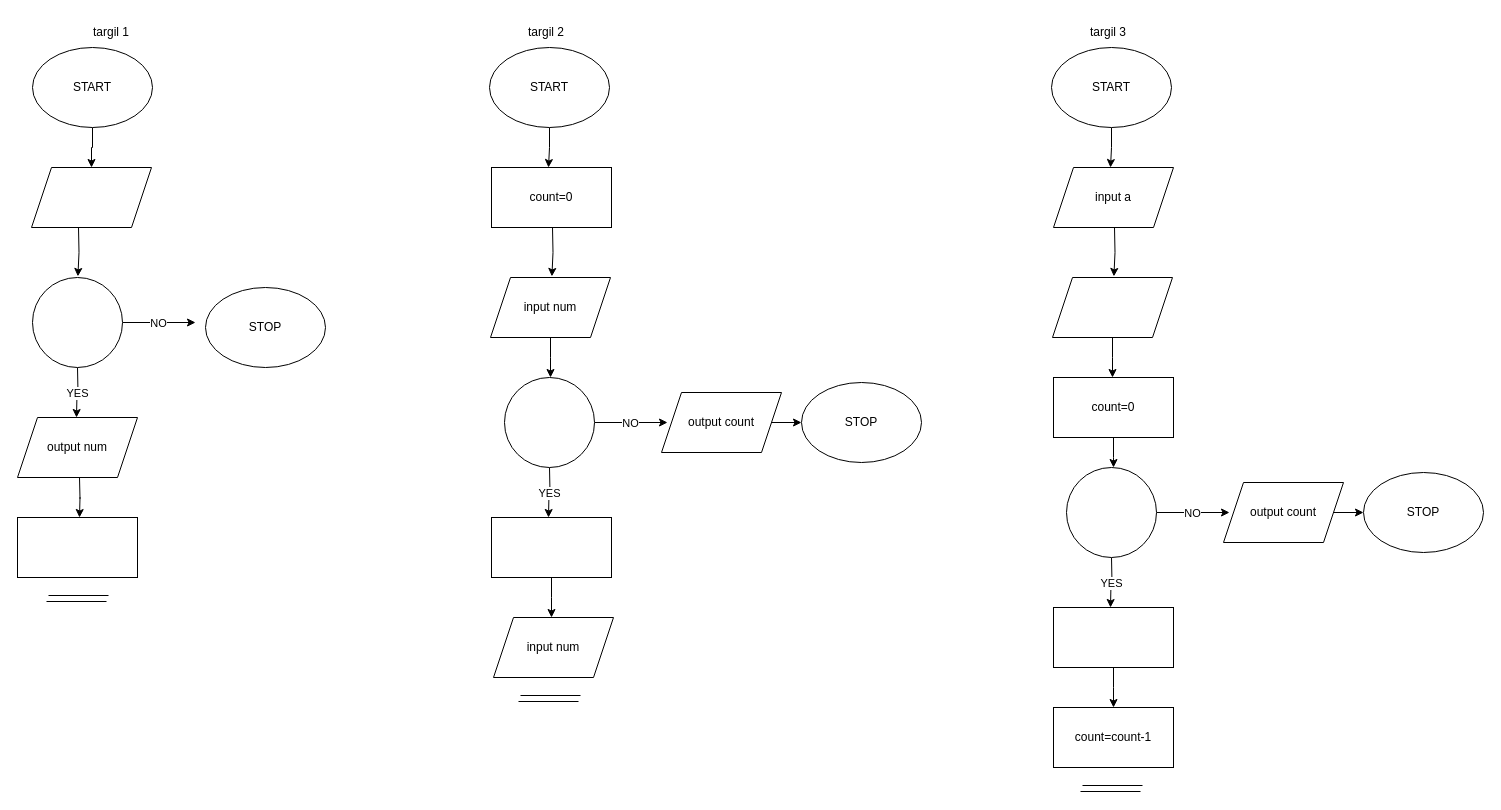
Some shapes in this 1501 by 810 pixel diagram are drawn without their labels. The shapes that lost their labels are listed below. From the top down, each one's centre as x and y in pixels, then its label:
the point at 91,197: num=10
the point at 77,322: num<=20
the point at 1112,307: input b
the point at 549,422: num!=0
the point at 1111,512: a>0
the point at 77,547: num=num+2
the point at 551,547: count=count+1
the point at 1113,637: a-b
